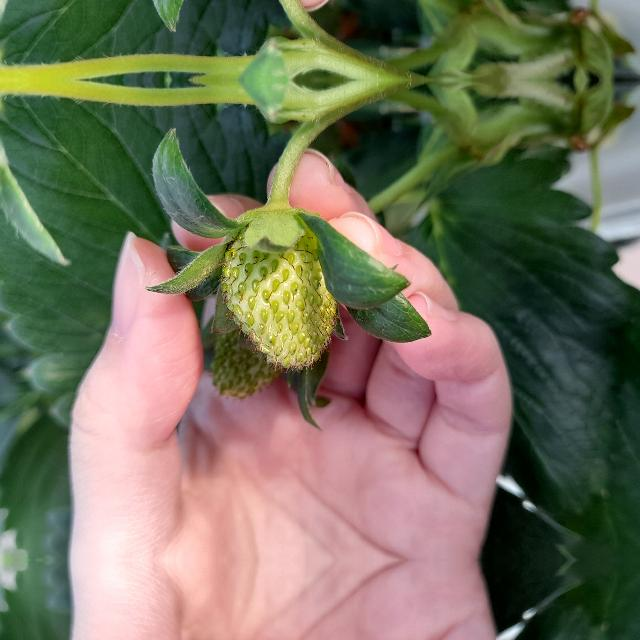Health_25: (218, 222, 338, 372)
